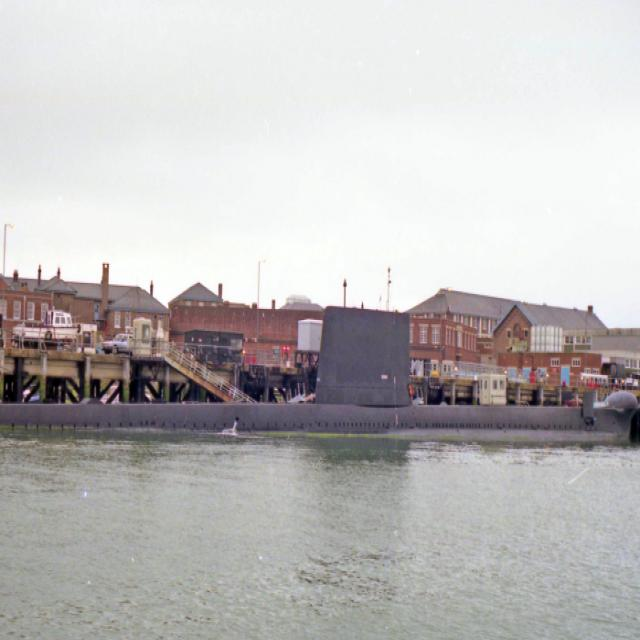submarine: (1, 303, 640, 442)
